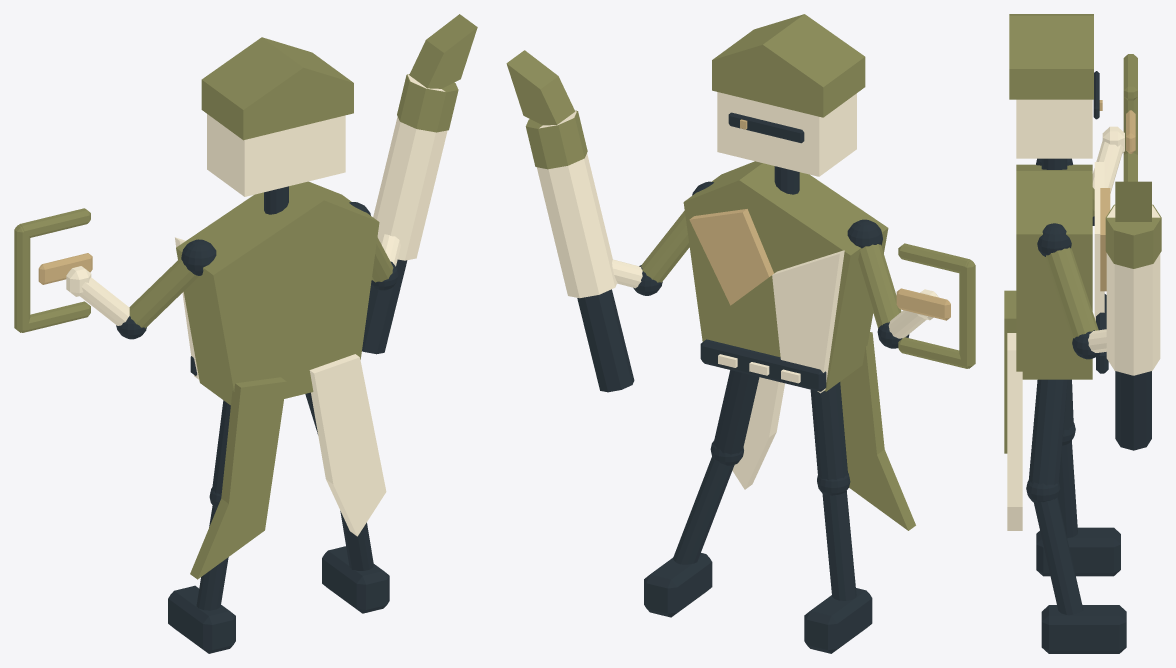
3 renders of one model, left to right at view 1: azimuth 30°, elevation 25°; view 2: azimuth 150°, elevation 25°; view 3: azimuth 270°, elevation 25°, orthographic.
Parts seen in each view (by area): view 1: chisel_torso, chisel_cap_top, left_ribbon_tail, right_ribbon_tail, chisel_cap_head, marker_barrel, marker_chisel_nib, left_shoe, right_shoe, marker_accent_band, left_arm_upper, marker_grip (+9 smaller); view 2: chisel_torso, chisel_cap_top, chisel_cap_head, marker_barrel, left_ribbon_tail, left_highlight_lapel, right_highlight_lapel, marker_grip, marker_chisel_nib, left_shoe, right_shoe, right_ribbon_tail (+15 smaller); view 3: chisel_torso, chisel_cap_top, marker_barrel, chisel_cap_head, right_shoe, right_thigh, right_shin, right_ribbon_tail, left_shoe, marker_grip, marker_accent_band, right_arm_upper (+19 smaller).
Boxes of the visible parts, <box> form: chisel_torso: <box>176,181,379,405</box>; chisel_cap_top: <box>201,37,353,140</box>; left_ribbon_tail: <box>190,377,286,579</box>; right_ribbon_tail: <box>309,354,386,536</box>; chisel_cap_head: <box>207,114,345,196</box>; marker_barrel: <box>373,74,447,260</box>; marker_chisel_nib: <box>409,14,477,88</box>; left_shoe: <box>168,585,235,653</box>; right_shoe: <box>322,546,389,613</box>; marker_accent_band: <box>397,74,458,132</box>; left_arm_upper: <box>129,257,198,328</box>; marker_grip: <box>362,259,407,354</box>; chisel_torso: <box>683,161,888,391</box>; chisel_cap_top: <box>712,14,865,117</box>; chisel_cap_head: <box>717,92,856,176</box>; marker_barrel: <box>537,111,617,298</box>; left_ribbon_tail: <box>840,332,915,530</box>; left_highlight_lapel: <box>772,250,844,393</box>; right_highlight_lapel: <box>689,209,773,305</box>; marker_grip: <box>577,289,634,392</box>; marker_chisel_nib: <box>506,50,575,125</box>; left_shoe: <box>804,588,872,653</box>; right_shoe: <box>644,553,712,617</box>; right_ribbon_tail: <box>732,377,784,489</box>; chisel_torso: <box>1016,164,1092,379</box>; chisel_cap_top: <box>1009,14,1093,99</box>; marker_barrel: <box>1106,205,1160,375</box>; chisel_cap_head: <box>1016,99,1092,158</box>; right_shoe: <box>1041,605,1126,653</box>; right_thigh: <box>1028,379,1067,485</box>; right_shin: <box>1034,497,1083,615</box>; right_ribbon_tail: <box>1007,333,1022,530</box>; left_shoe: <box>1036,527,1120,576</box>; marker_grip: <box>1115,371,1151,450</box>; marker_accent_band: <box>1105,204,1161,268</box>; right_arm_upper: <box>1045,247,1098,339</box>.
Bounding box in the file's own units: 1.89 × 2.3 × 0.5565.
